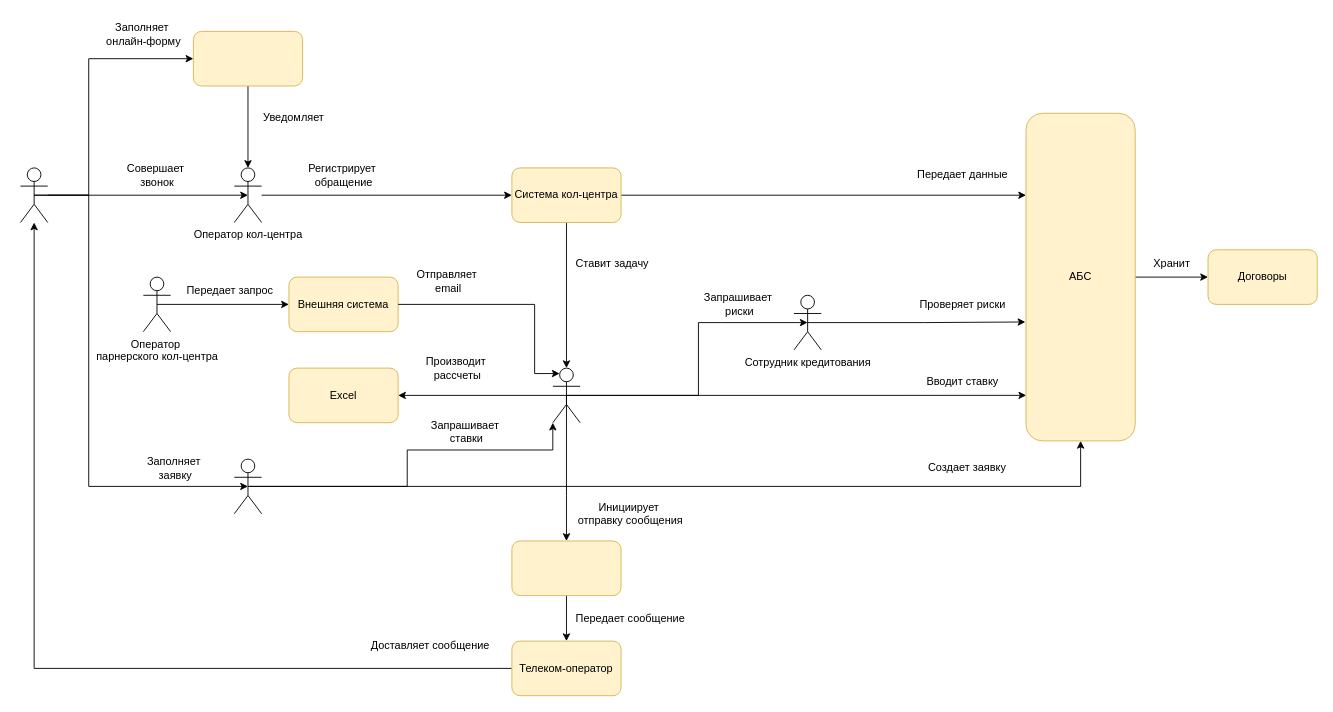
The diagram is 1333 pixels wide and 712 high, and some of its shapes have lost their labels. The box of each missing label's shape, as (x1, y1, x2, y2) in pixels:
SMS-шлюз: (511, 540, 621, 596)
Клиент: (20, 167, 48, 222)
Сайт: (192, 30, 303, 86)
Сотрудник депозитов: (552, 367, 580, 423)
Сотрудник отделения банка: (233, 458, 262, 514)
